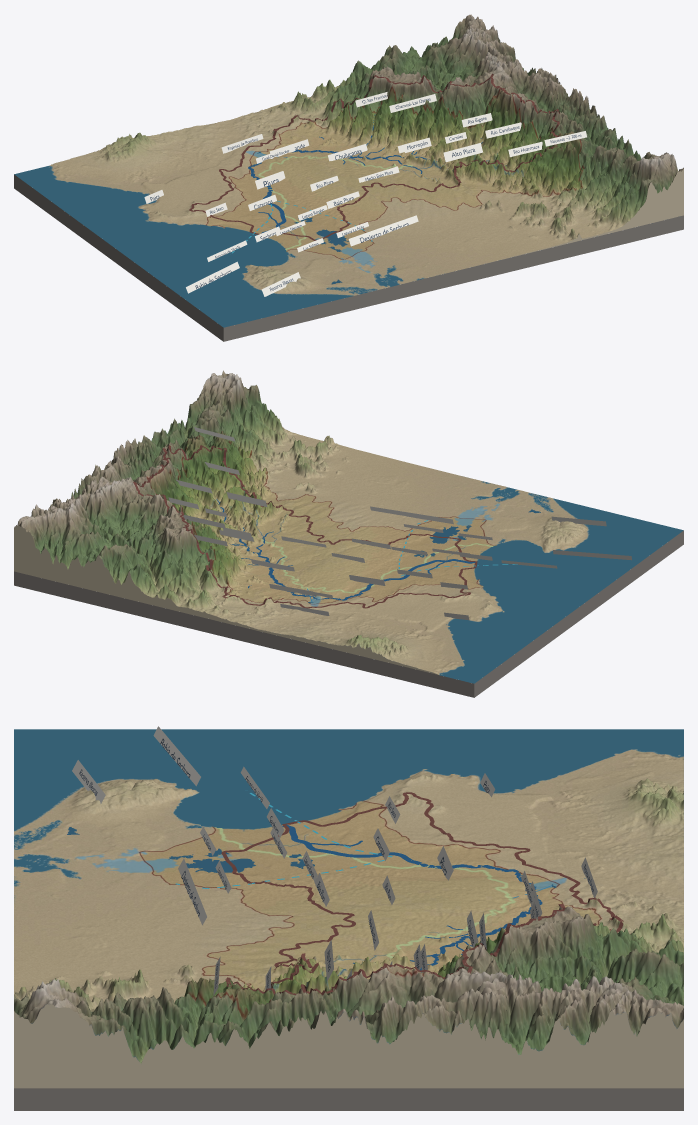
File: piura.glb
3 renders of one model, top to bottom at view 1: azimuth 30°, elevation 25°; view 2: azimuth 150°, elevation 25°; view 3: azimuth 270°, elevation 25°, orthographic. The views are drawn at different scales.
Parts seen in each view (by area): view 1: GEO-Cuenca, GEO-Mar, GEO-Corte-Bloque, GEO-Divisoria, GEO-Corte-Suelo, GEO-Rios, GEO-Etiqueta-Desierto_de_Sechura-placa; view 2: GEO-Cuenca, GEO-Mar, GEO-Corte-Bloque, GEO-Corte-Suelo, GEO-Divisoria, GEO-Rios; view 3: GEO-Cuenca, GEO-Mar, GEO-Corte-Suelo, GEO-Corte-Bloque, GEO-Divisoria, GEO-Rios, GEO-Agua-Lagunas, GEO-Etiqueta-Bahía_de_Sechura-placa, GEO-Etiqueta-Desierto_de_Sechura-placa.
Part boxes in pixels (bbox=[...]): GEO-Cuenca: bbox=[48, 14, 683, 295]; GEO-Mar: bbox=[14, 166, 423, 327]; GEO-Corte-Bloque: bbox=[14, 174, 683, 341]; GEO-Divisoria: bbox=[189, 73, 560, 240]; GEO-Corte-Suelo: bbox=[206, 124, 683, 284]; GEO-Rios: bbox=[248, 114, 506, 233]; GEO-Etiqueta-Desierto_de_Sechura-placa: bbox=[348, 215, 418, 246]; GEO-Cuenca: bbox=[17, 370, 589, 675]; GEO-Mar: bbox=[440, 481, 683, 683]; GEO-Corte-Bloque: bbox=[14, 530, 683, 697]; GEO-Corte-Suelo: bbox=[14, 524, 437, 674]; GEO-Divisoria: bbox=[133, 445, 477, 608]; GEO-Rios: bbox=[216, 499, 475, 600]; GEO-Cuenca: bbox=[14, 749, 683, 1063]; GEO-Mar: bbox=[14, 729, 683, 885]; GEO-Corte-Suelo: bbox=[14, 1003, 683, 1088]; GEO-Corte-Bloque: bbox=[14, 1088, 683, 1110]; GEO-Divisoria: bbox=[221, 792, 623, 995]; GEO-Rios: bbox=[282, 824, 542, 972]; GEO-Agua-Lagunas: bbox=[67, 827, 585, 887]; GEO-Etiqueta-Bahía_de_Sechura-placa: bbox=[153, 726, 200, 786]; GEO-Etiqueta-Desierto_de_Sechura-placa: bbox=[178, 858, 206, 925].
Bounding box in the file's own units: 238276 × 34779 × 187924.
11 materials, 1 textured.
